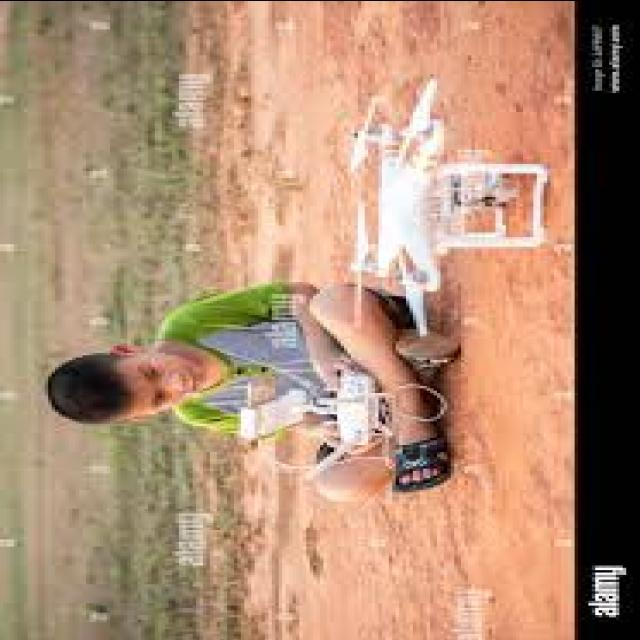drone: (338, 99, 550, 323)
